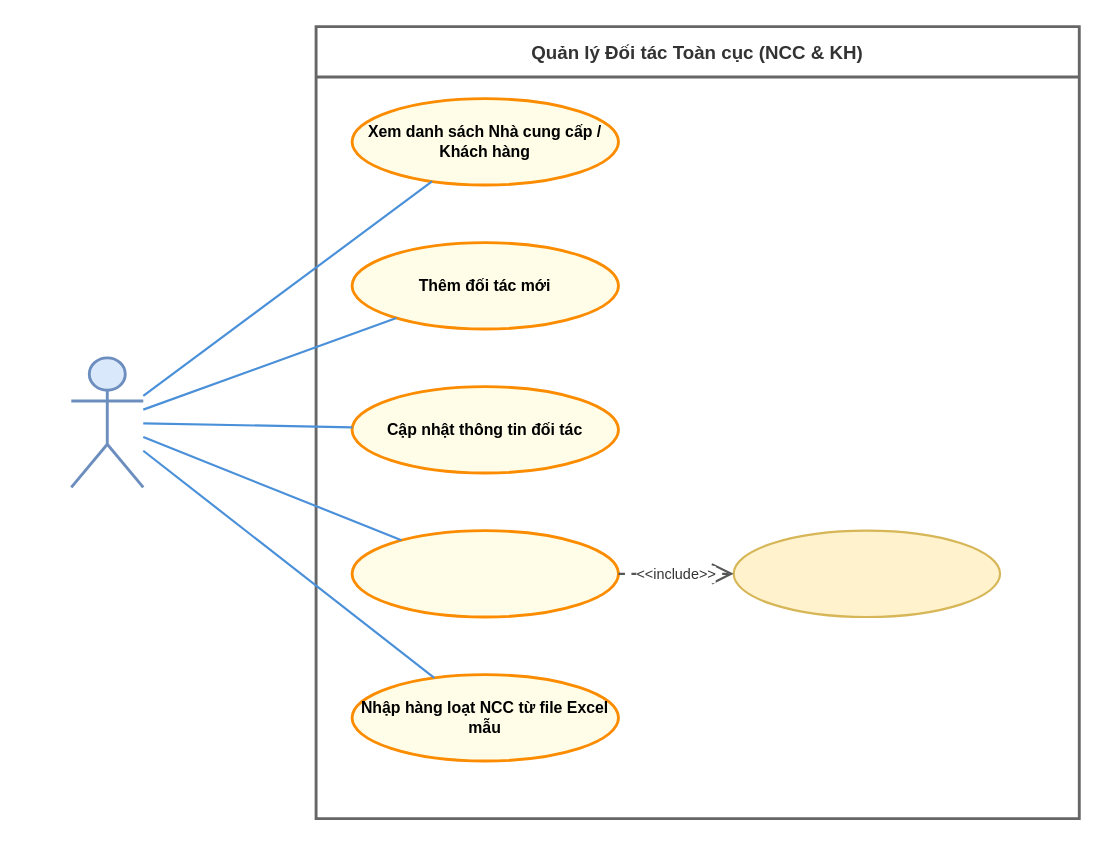
Image size: 1104x844. Some labels were removed from this diagram. The box of each missing label's shape, as (x1, y1, x2, y2) in pixels:
Chặn ngừng hoạt động nếu khách hàng còn dư nợ: (732, 529, 1001, 617)
Quản trị viên (ADMIN): (69, 356, 144, 488)
Vô hiệu hóa đối tác (→ INACTIVE): (350, 528, 619, 618)
